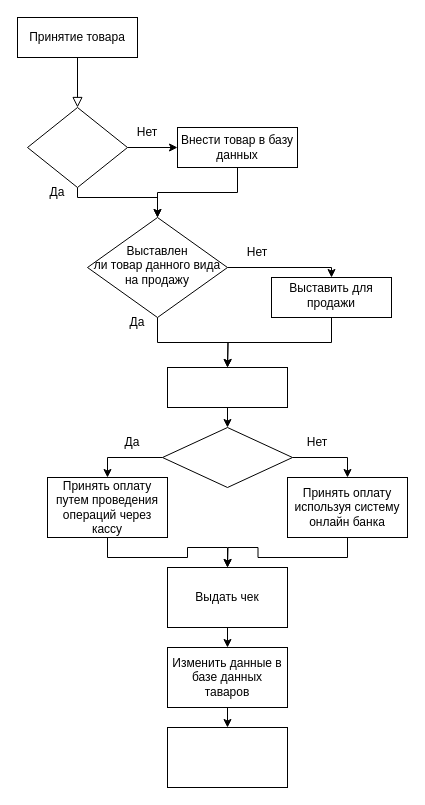
Image size: 425x805. Some labels were removed from this diagram. The box of each missing label's shape, as (x1, y1, x2, y2) in pixels:
Заказать новую партию товаров у поставщика: (166, 726, 288, 788)
Клиент покупает товар: (166, 366, 288, 408)
Оплата наличными?: (162, 426, 292, 488)
Товар есть в базе данных: (26, 106, 128, 188)
